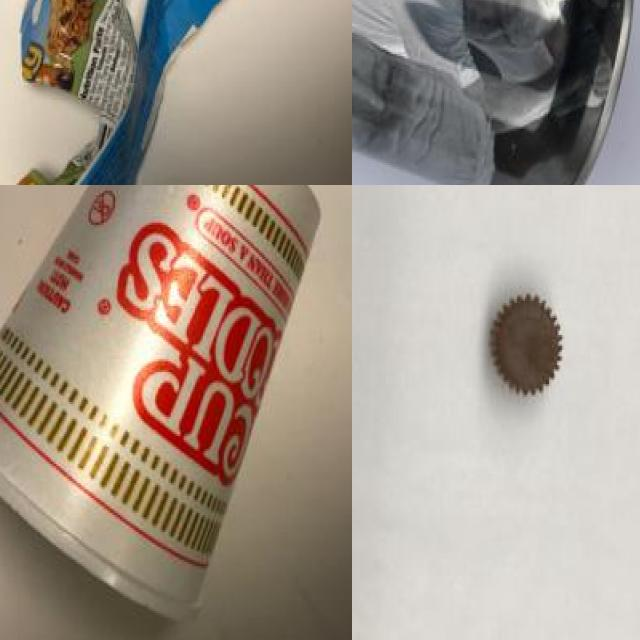compost: (477, 266, 583, 430)
plastic: (352, 0, 640, 185)
trash: (0, 185, 332, 622), (0, 0, 278, 185)
